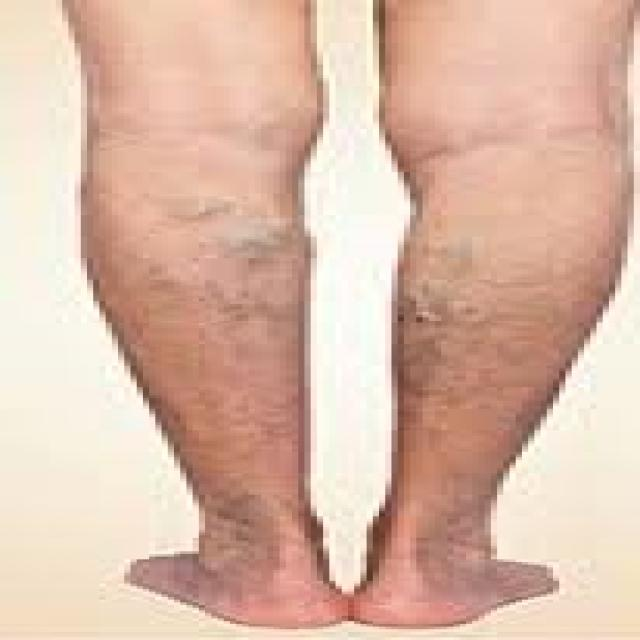Varicose: (47, 154, 640, 494)
